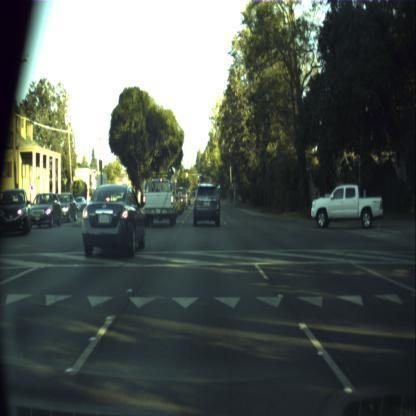Green: (218, 180, 221, 188), (197, 172, 200, 178)
